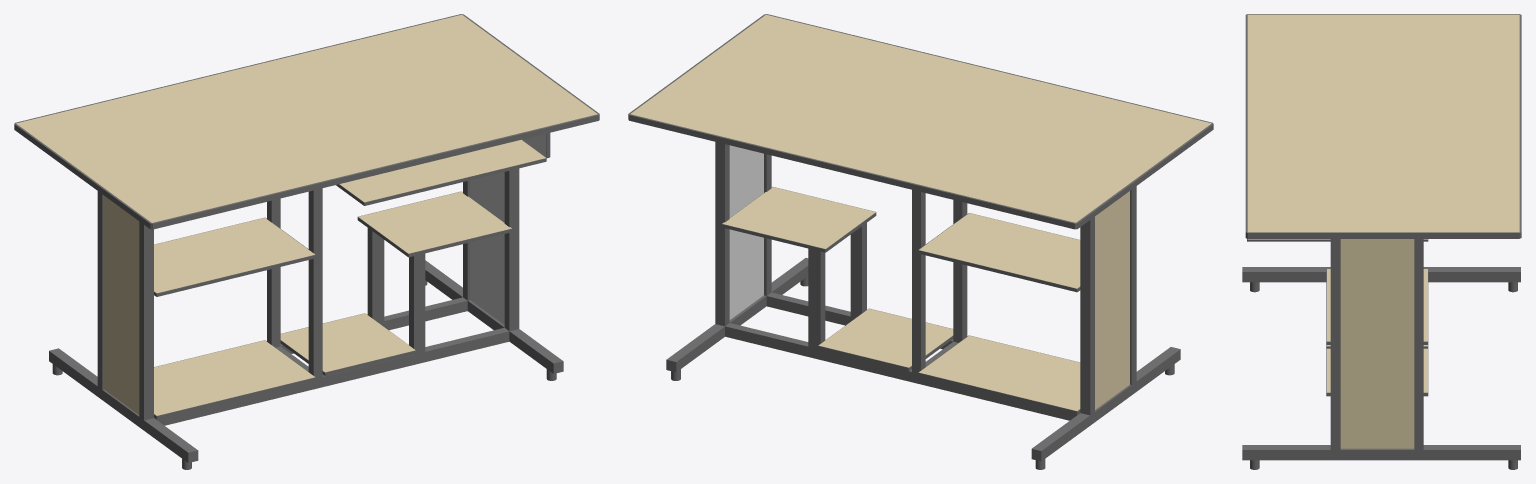
File: Table_2.fbx
3 views of the same model, side by side, from view 1: azimuth 30°, elevation 25°; view 2: azimuth 150°, elevation 25°; view 3: azimuth 270°, elevation 25° (orthographic).
Parts seen in each view (by area): view 1: Cube.328; view 2: Cube.328; view 3: Cube.328.
Part boxes in pixels (left/top/right/bottom): Cube.328: left=14, top=14, right=599, bottom=469; Cube.328: left=628, top=14, right=1213, bottom=469; Cube.328: left=1242, top=14, right=1521, bottom=469.
Size of the model in its own units: 494 by 270 by 266.
